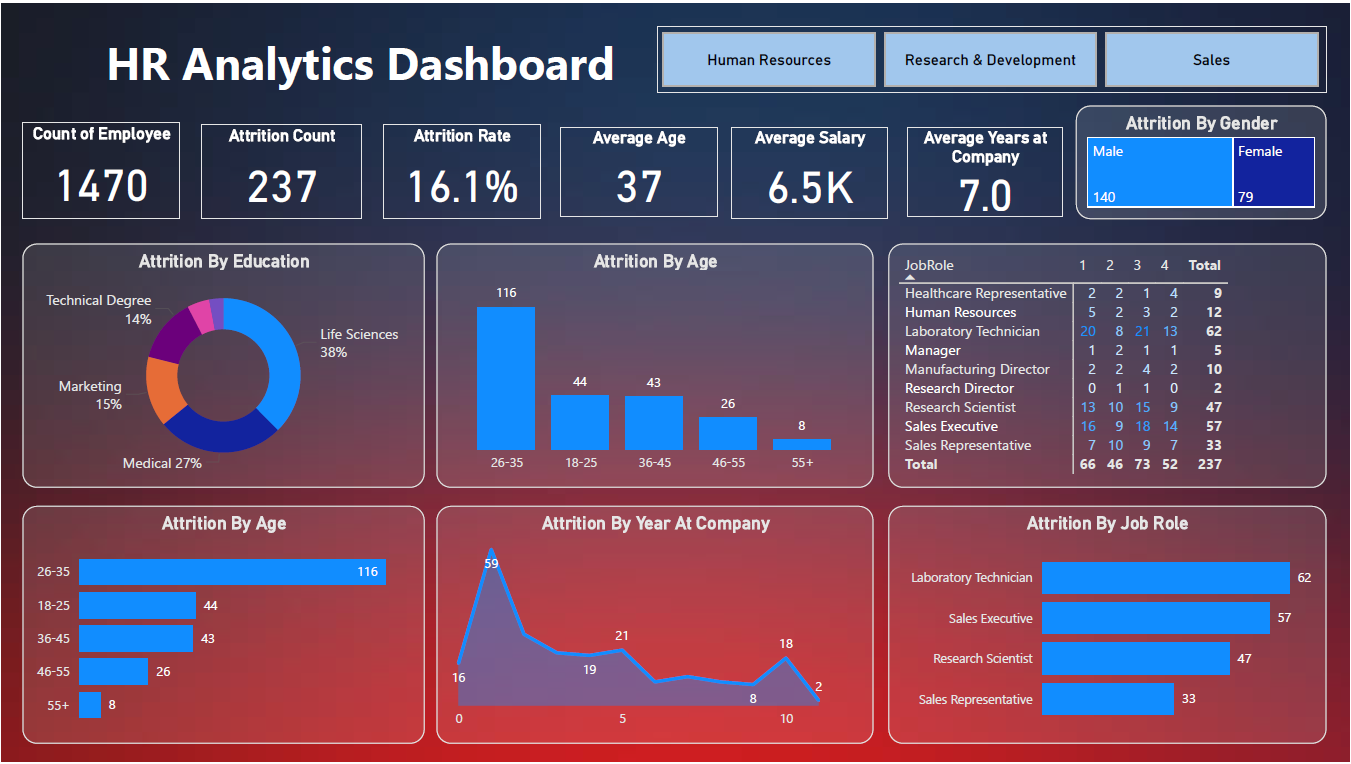

Layout of this report page (visuals, bound fields, positions):
{"tool":"powerbi","page":{"name":"Page 1","canvas":[1280,720],"ordinal":0},"visuals":[{"type":"card","title":"Count of Employee","fields":{"Values":["CountNonNull(HR_Analytics.EmpID)"]},"box":[20,113.3,150,91.7],"z":0},{"type":"card","title":"Attrition Count","fields":{"Values":["Sum(HR_Analytics.AttritionCount)"]},"box":[190,115,151.7,90],"z":1000},{"type":"card","title":"Attrition Rate","fields":{"Values":["HR_Analytics.Attrition Rate"]},"box":[361.7,115,150,90],"z":2000},{"type":"card","title":"Average Age","fields":{"Values":["Avg(HR_Analytics.Age)"]},"box":[530,116.7,150,86.7],"z":3000},{"type":"card","title":"Average Salary","fields":{"Values":["Avg(HR_Analytics.MonthlyIncome)"]},"box":[693.3,116.7,148.3,88.3],"z":4000},{"type":"card","title":"Average Years at Company","fields":{"Values":["Avg(HR_Analytics.YearsAtCompany)"]},"box":[860,116.7,148.3,86.7],"z":5000},{"type":"donutChart","title":"Attrition By Education","fields":{"Category":["HR_Analytics.EducationField"],"Y":["Sum(HR_Analytics.AttritionCount)"]},"box":[20,228.3,381.7,231.7],"z":6000},{"type":"columnChart","title":"Attrition By Age","fields":{"Category":["HR_Analytics.AgeGroup"],"Y":["Sum(HR_Analytics.AttritionCount)"]},"box":[413.3,228.3,415,231.7],"z":7000},{"type":"pivotTable","fields":{"Rows":["HR_Analytics.JobRole"],"Columns":["HR_Analytics.JobSatisfaction"],"Values":["Sum(HR_Analytics.AttritionCount)"]},"box":[841.7,228.3,416.7,231.7],"z":8000},{"type":"clusteredBarChart","title":"Attrition By Age","fields":{"Category":["HR_Analytics.AgeGroup"],"Y":["Sum(HR_Analytics.AttritionCount)"]},"box":[20,476.7,381.7,226.7],"z":9000},{"type":"clusteredBarChart","title":"Attrition By Job Role","fields":{"Category":["HR_Analytics.JobRole"],"Y":["Sum(HR_Analytics.AttritionCount)"]},"box":[841.7,476.7,416.7,226.7],"z":10000},{"type":"areaChart","title":"Attrition By Year At Company","fields":{"Category":["HR_Analytics.YearsAtCompany"],"Y":["Sum(HR_Analytics.AttritionCount)"]},"box":[413.3,476.7,415,226.7],"z":10001},{"type":"treemap","title":"Attrition By Gender","fields":{"Group":["HR_Analytics.Gender"],"Values":["Sum(HR_Analytics.AttritionCount)"]},"box":[1020,96.7,238.3,108.3],"z":10002},{"type":"advancedSlicerVisual","fields":{"Values":["HR_Analytics.Department"]},"box":[621.7,21.7,636.7,63.3],"z":10003},{"type":"textbox","box":[20,21.7,641.7,75],"z":10004}]}

Visuals, with their boxes in screenshot pixels (x1, y1, x2, y2), scaled from the page's 1280x720 canvas onto the 1351x764 screenshot:
"Count of Employee" card: x1=21, y1=120, x2=179, y2=218
"Attrition Count" card: x1=201, y1=122, x2=361, y2=218
"Attrition Rate" card: x1=382, y1=122, x2=540, y2=218
"Average Age" card: x1=559, y1=124, x2=718, y2=216
"Average Salary" card: x1=732, y1=124, x2=888, y2=218
"Average Years at Company" card: x1=908, y1=124, x2=1064, y2=216
"Attrition By Education" donutChart: x1=21, y1=242, x2=424, y2=488
"Attrition By Age" columnChart: x1=436, y1=242, x2=874, y2=488
pivotTable - HR_Analytics.JobRole x HR_Analytics.JobSatisfaction: x1=888, y1=242, x2=1328, y2=488
"Attrition By Age" clusteredBarChart: x1=21, y1=506, x2=424, y2=746
"Attrition By Job Role" clusteredBarChart: x1=888, y1=506, x2=1328, y2=746
"Attrition By Year At Company" areaChart: x1=436, y1=506, x2=874, y2=746
"Attrition By Gender" treemap: x1=1077, y1=103, x2=1328, y2=218
advancedSlicerVisual - HR_Analytics.Department: x1=656, y1=23, x2=1328, y2=90
textbox: x1=21, y1=23, x2=698, y2=103
